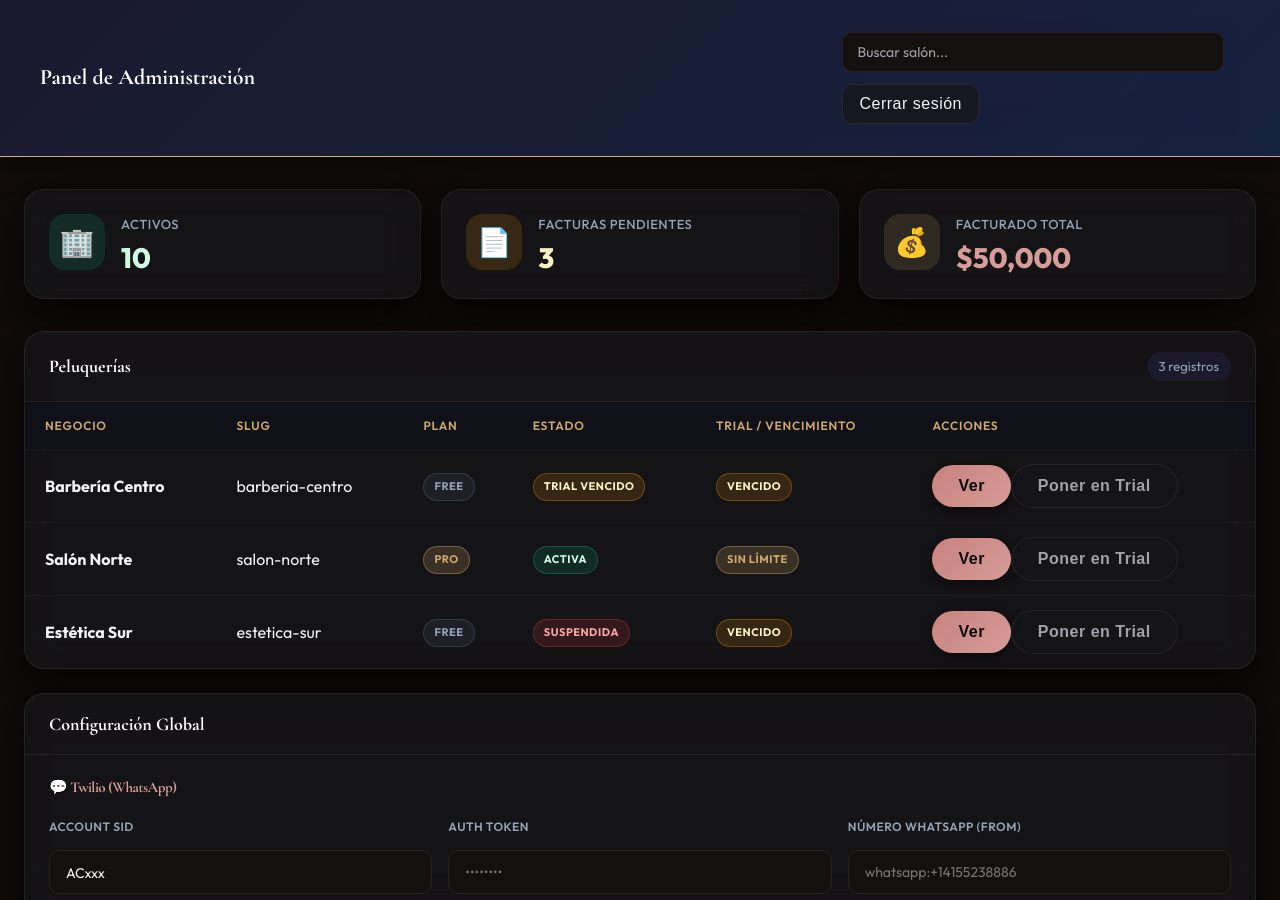
it: AdminDashboard › switches to invoices tab in modal
The width and height of the screenshot is (1280, 900).
Expected: the text "Barbería Centro" is shown, [45,476,164,496]
Click the button "Ver" in the row of "Barbería Centro": [972, 486] box [932,465,1011,507]
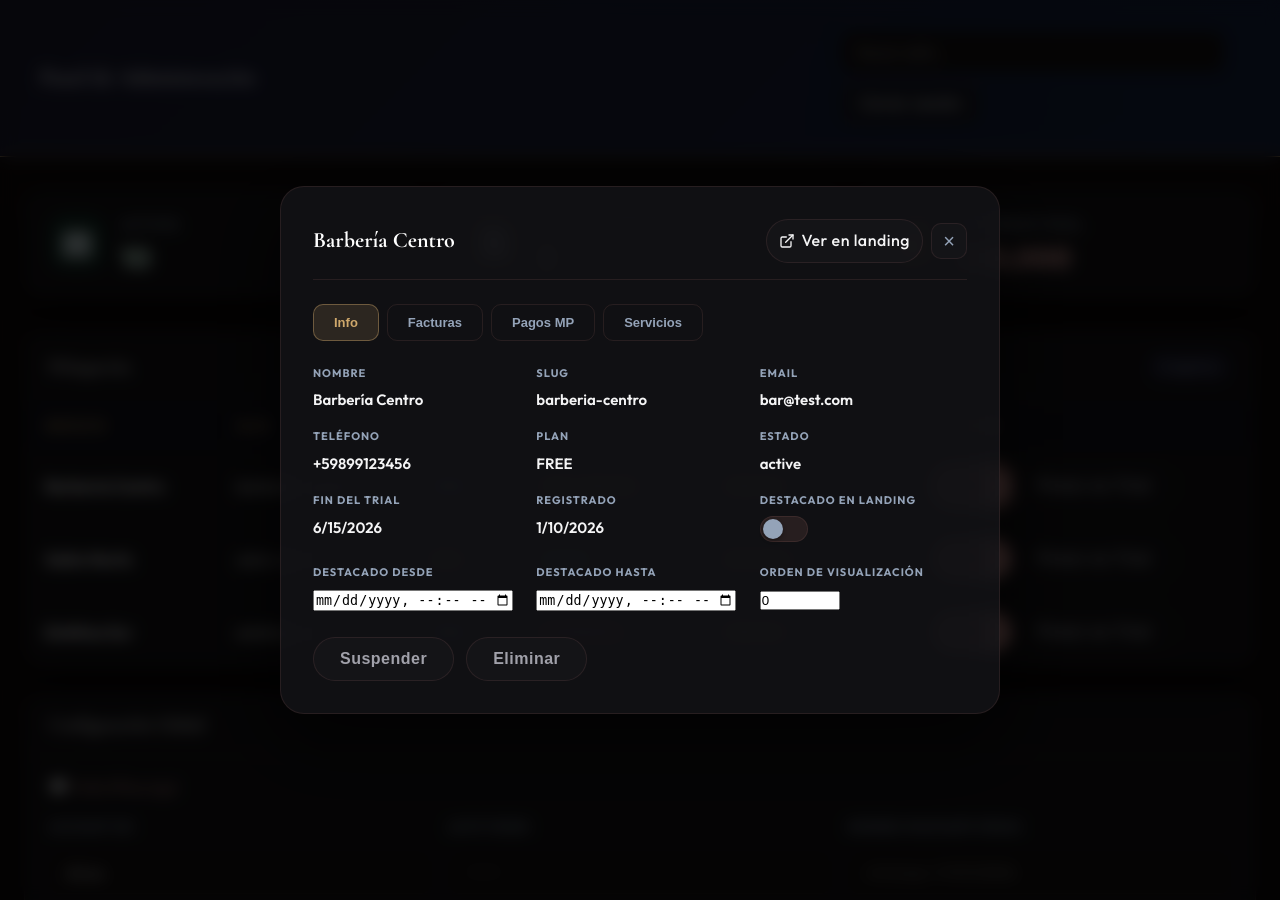
Expected: the button "Facturas" is shown
Click the button "Facturas": [435, 322] box [387,304,483,341]
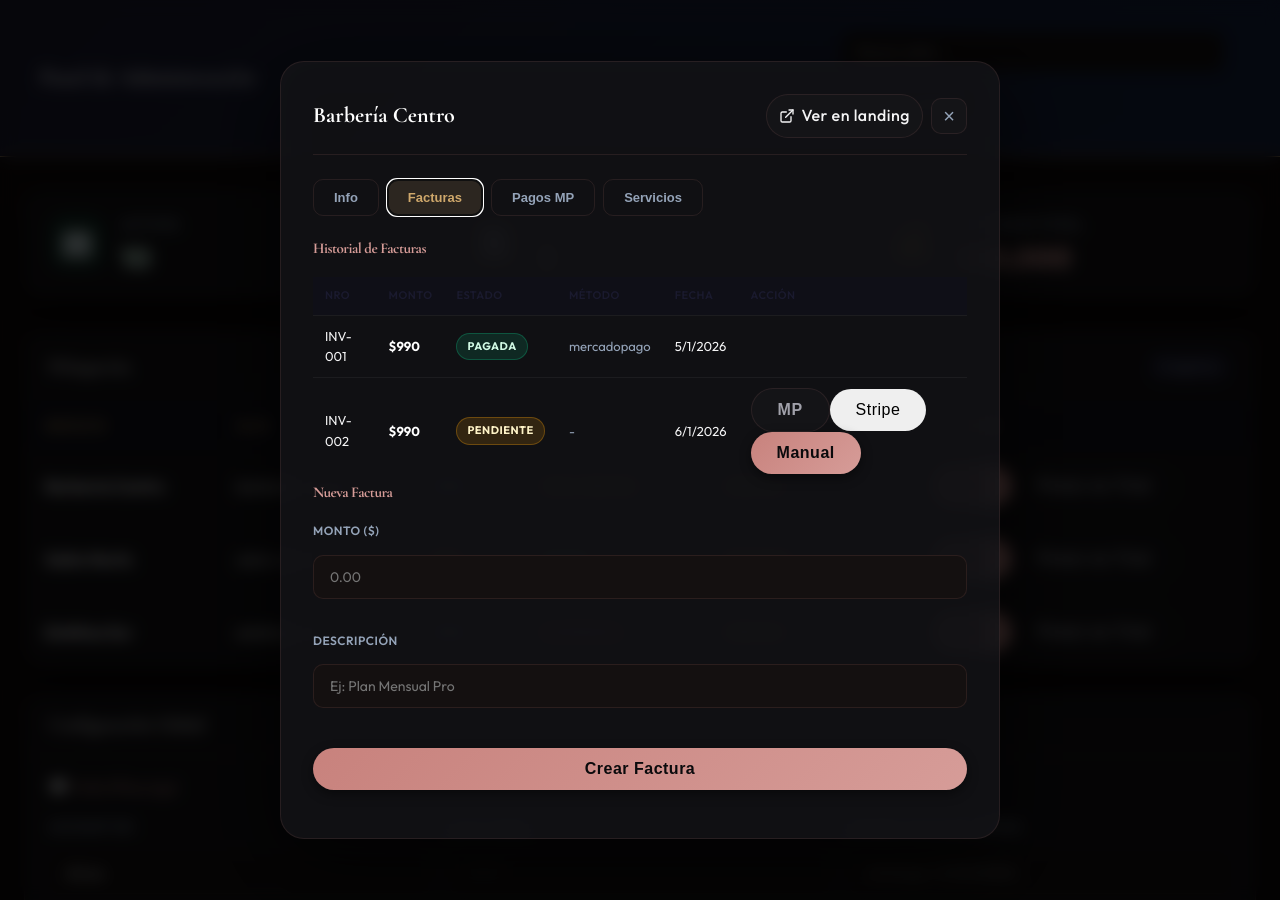
Expected: the text "INV-001" is shown, [313,315,376,378]
Expected: the text "INV-002" is shown, [313,378,376,484]
